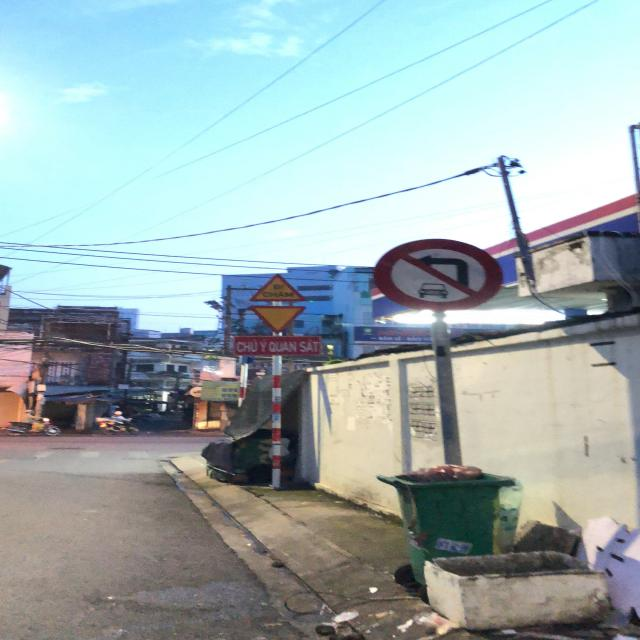Bien bao cam xe o to re trai: (371, 238, 512, 314)
Bien bao di cham: (242, 272, 308, 302)
Bien bao giao nhau voi duong uu tien: (243, 302, 315, 334)
